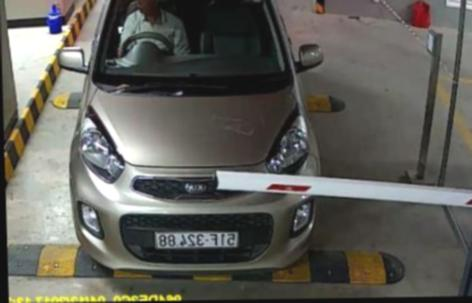License_Plate: (151, 228, 239, 252)
